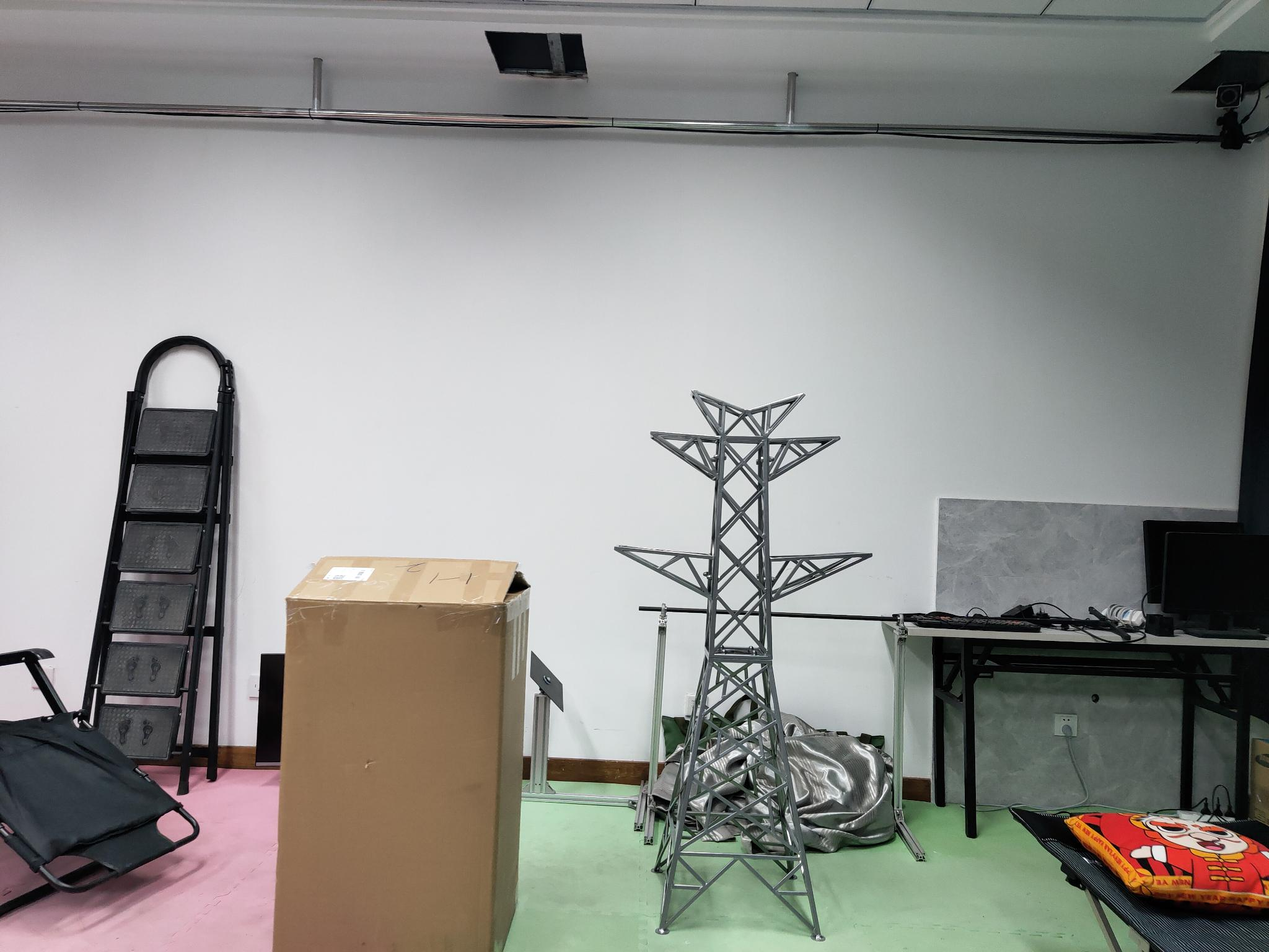tower: (622, 390, 849, 940)
